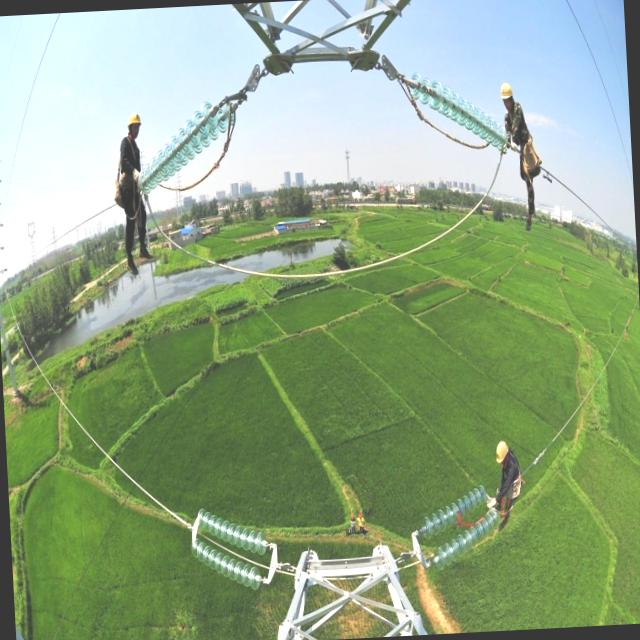helmet: (487, 436, 513, 469), (122, 108, 144, 136), (498, 82, 516, 104)
